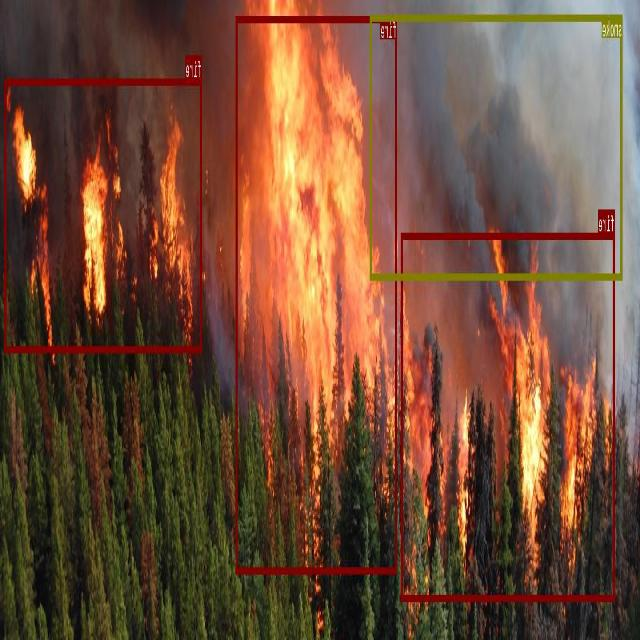fire: (236, 16, 398, 573), (402, 232, 615, 600), (5, 78, 202, 351)
smoke: (370, 14, 623, 279)
